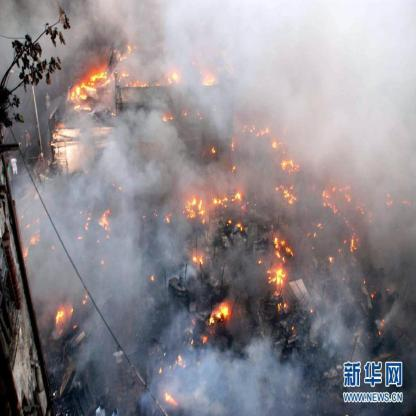fire: (69, 48, 224, 106), (242, 111, 302, 203), (319, 168, 383, 251), (178, 184, 244, 228), (268, 224, 297, 320), (50, 286, 90, 335), (82, 204, 122, 249), (204, 291, 233, 346), (18, 209, 44, 257)
